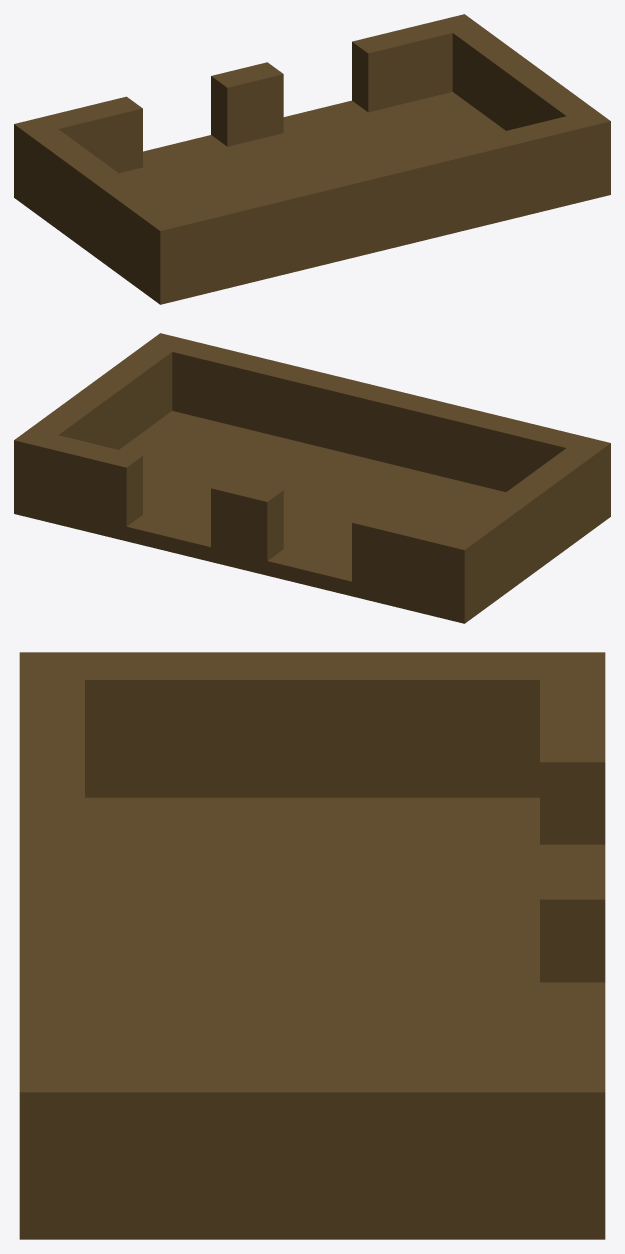
File: StageObject01.fbx
3 renders of one model, top to bottom at view 1: azimuth 30°, elevation 25°; view 2: azimuth 150°, elevation 25°; view 3: azimuth 270°, elevation 25°, orthographic. The views are drawn at different scales.
Parts seen in each view (by area): view 1: pCube8; view 2: pCube8; view 3: pCube8.
Part boxes in pixels (left/top/right/bottom): pCube8: left=14, top=14, right=610, bottom=304; pCube8: left=14, top=333, right=610, bottom=623; pCube8: left=19, top=652, right=605, bottom=1239.
Bounding box in the file's own units: 16 × 2.5 × 9.
